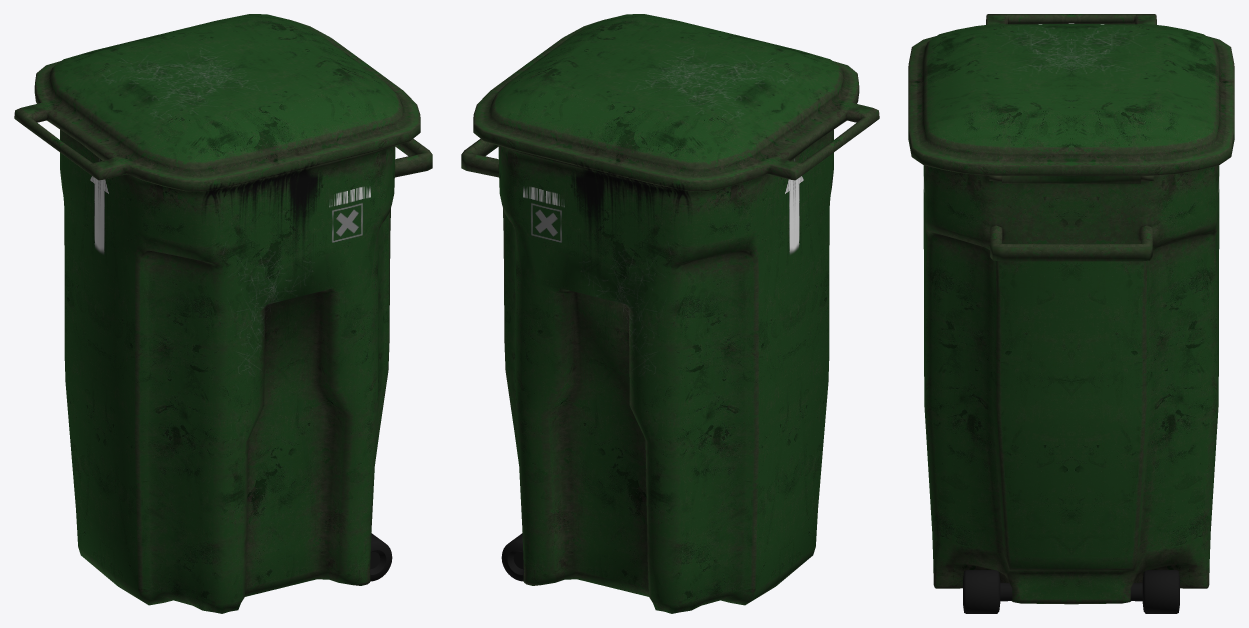
Rendered from Trashbin_03.fbx.
The picture shows the model from 3 angles, left to right: view 1: azimuth 30°, elevation 25°; view 2: azimuth 150°, elevation 25°; view 3: azimuth 270°, elevation 25°; orthographic projection.
Visible parts, largest first — view 1: trashbin_small; view 2: trashbin_small; view 3: trashbin_small.
Part boxes in pixels (x1=…): trashbin_small: x1=14, y1=14, x2=432, y2=613; trashbin_small: x1=461, y1=14, x2=879, y2=613; trashbin_small: x1=908, y1=14, x2=1234, y2=613.
Size of the model in its own units: 161 by 224 by 133.
